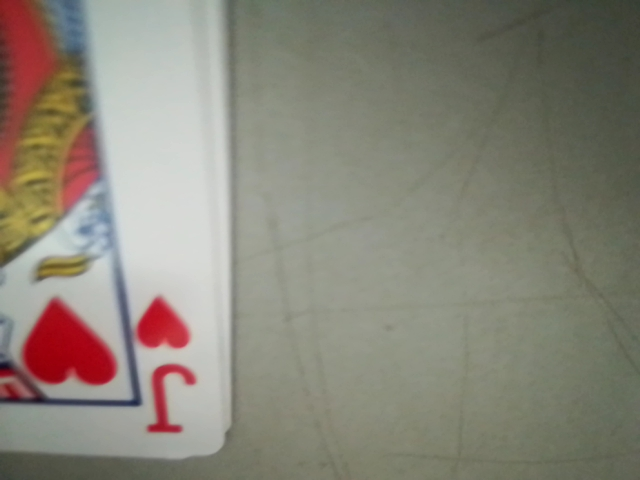hx j: (121, 288, 204, 443)
